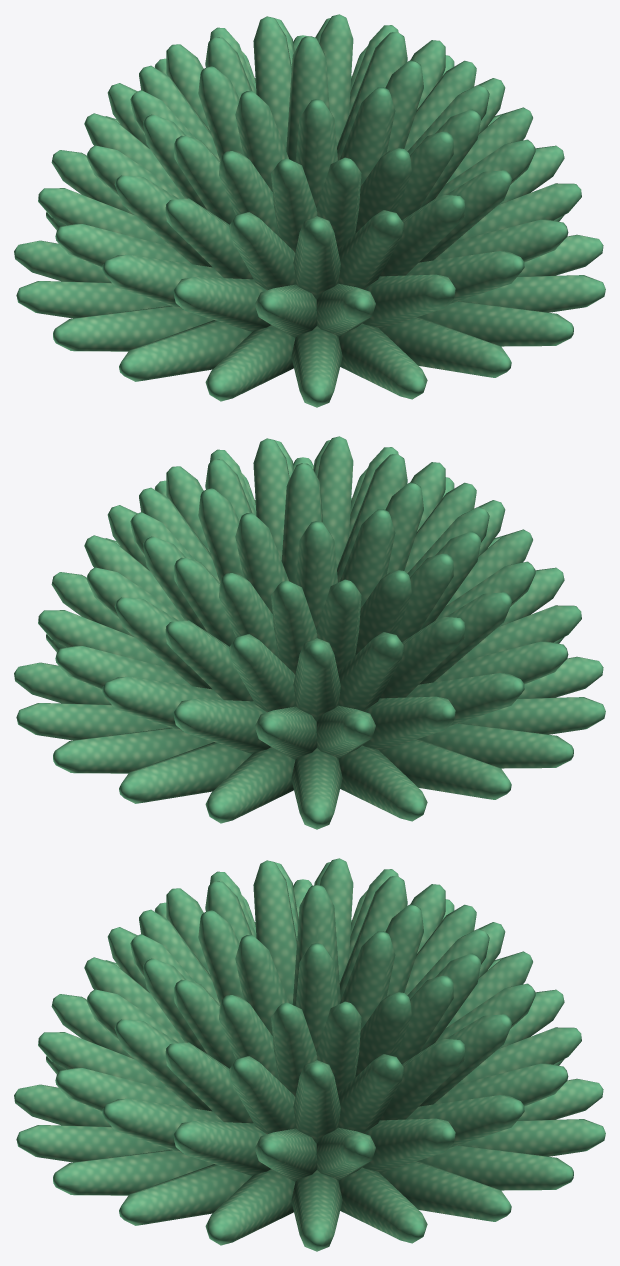
File: greenCoral.fbx
3 renders of one model, top to bottom at view 1: azimuth 30°, elevation 25°; view 2: azimuth 150°, elevation 25°; view 3: azimuth 270°, elevation 25°, orthographic.
Parts seen in each view (by area): view 1: greenCoral; view 2: greenCoral; view 3: greenCoral.
Part boxes in pixels (x1,y1,x2,y2): greenCoral: (14, 14, 605, 407); greenCoral: (14, 436, 605, 829); greenCoral: (14, 858, 605, 1251).
Size of the model in its own units: 55.37 by 29.22 by 54.75.
1 material, 1 textured.
